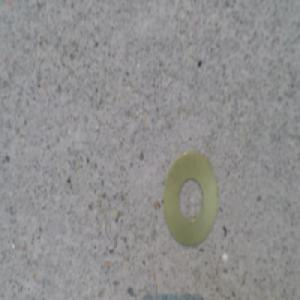Washer: (161, 144, 218, 244)
